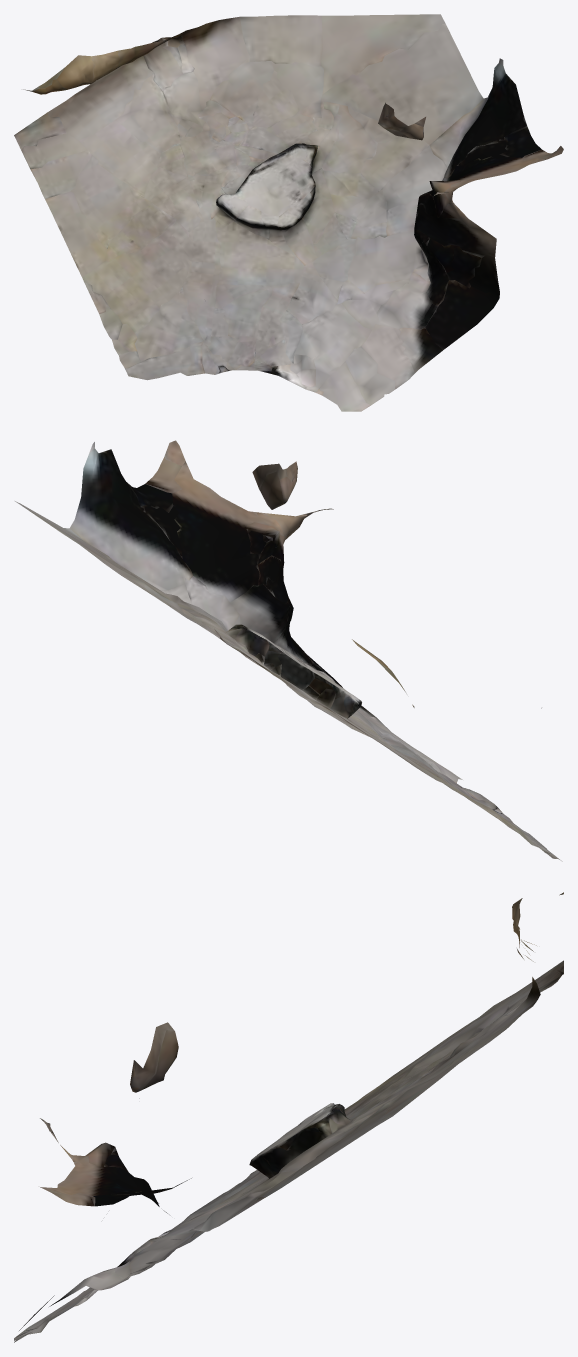
File: hall.glb
The picture shows the model from 3 angles, top to bottom: view 1: azimuth 30°, elevation 25°; view 2: azimuth 150°, elevation 25°; view 3: azimuth 270°, elevation 25°; orthographic projection. The views are drawn at different scales.
Size of the model in its own units: 2.13 by 1.39 by 1.87.
1 material, 1 textured.
